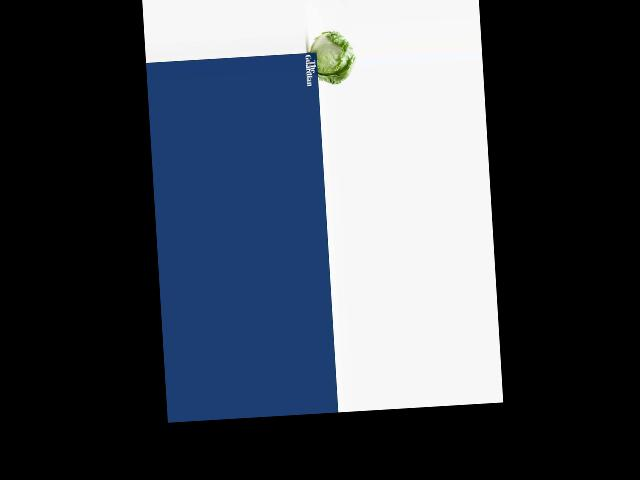lettuce: (309, 30, 359, 84)
